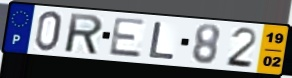0: (32, 10, 64, 53)
2: (225, 26, 259, 69)
8: (191, 23, 222, 66)
E: (107, 16, 148, 60)
L: (147, 20, 178, 61)
R: (65, 12, 105, 56)
